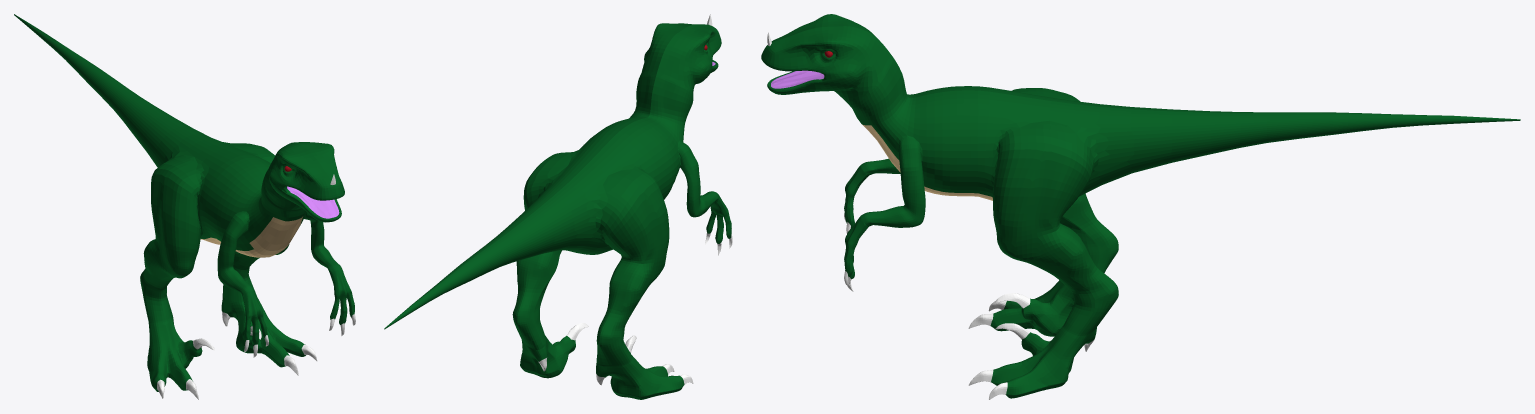
The model's file is dino v2.fbx.
3 renders of one model, left to right at view 1: azimuth 30°, elevation 25°; view 2: azimuth 150°, elevation 25°; view 3: azimuth 270°, elevation 25°, orthographic. The views are drawn at different scales.
Parts seen in each view (by area): view 1: DINO BODY; view 2: DINO BODY; view 3: DINO BODY.
Boxes of the visible parts, x1,y1,x2,y2 form: DINO BODY: (14, 14, 355, 399); DINO BODY: (384, 14, 732, 399); DINO BODY: (761, 14, 1520, 399).
Bounding box in the file's own units: 300 × 521 × 1082.
